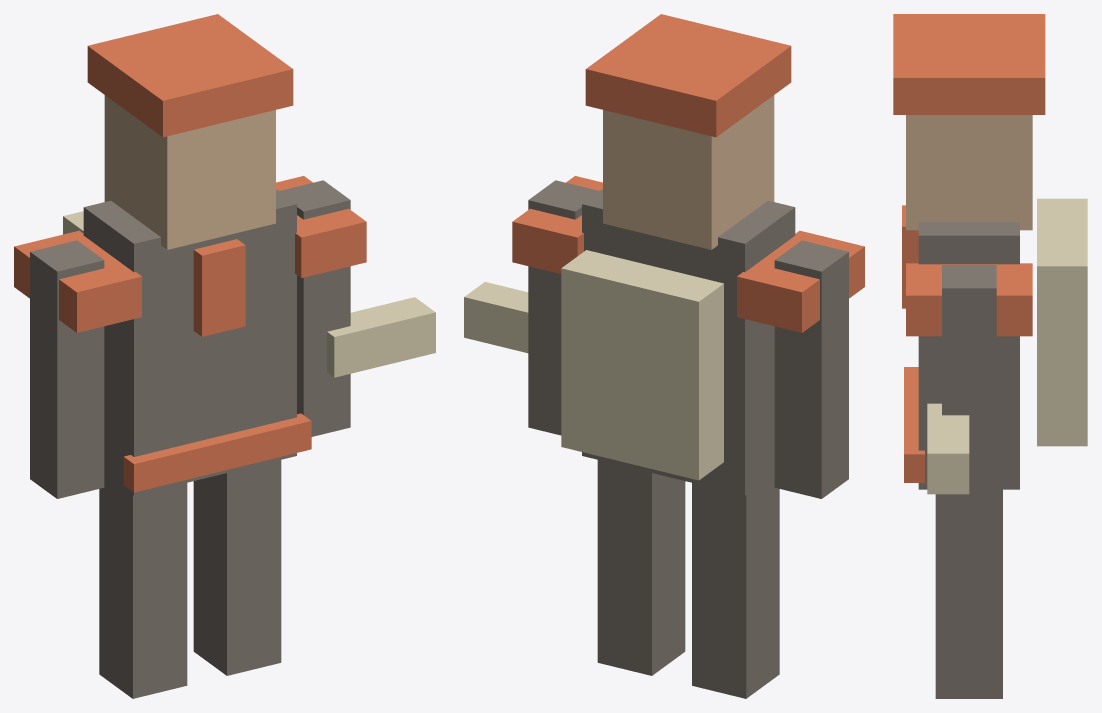
File: 03_calder_brightlock_engineer_of_salvager.glb
The picture shows the model from 3 angles, left to right: view 1: azimuth 30°, elevation 25°; view 2: azimuth 150°, elevation 25°; view 3: azimuth 270°, elevation 25°; orthographic projection.
Visible parts, largest first — view 1: Calder Brightlock, Engineer of Salvager; view 2: Calder Brightlock, Engineer of Salvager; view 3: Calder Brightlock, Engineer of Salvager.
Part boxes in pixels (box(x1,y1,x2,y2)): Calder Brightlock, Engineer of Salvager: box(14, 14, 435, 698); Calder Brightlock, Engineer of Salvager: box(464, 14, 864, 698); Calder Brightlock, Engineer of Salvager: box(893, 14, 1087, 698).
Bounding box in the file's own units: 1.01 × 1.59 × 0.4526.
